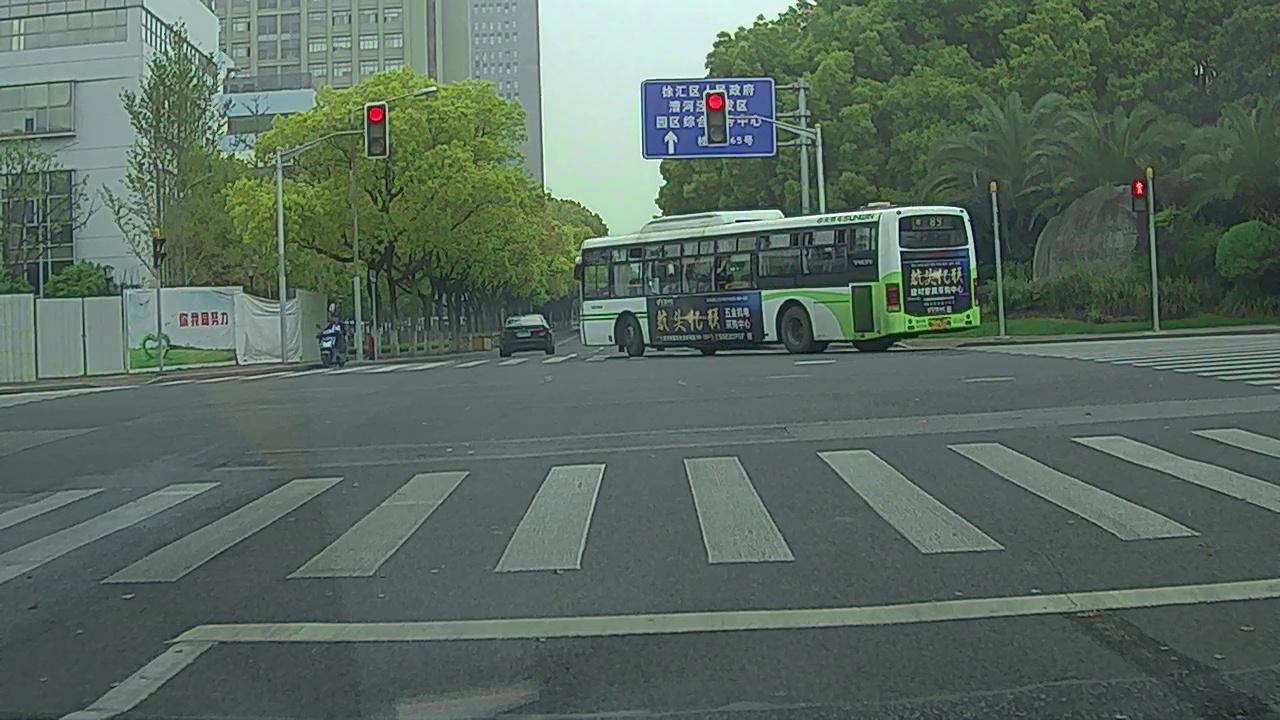traffic_light: (704, 94, 727, 144), (366, 105, 386, 156)
